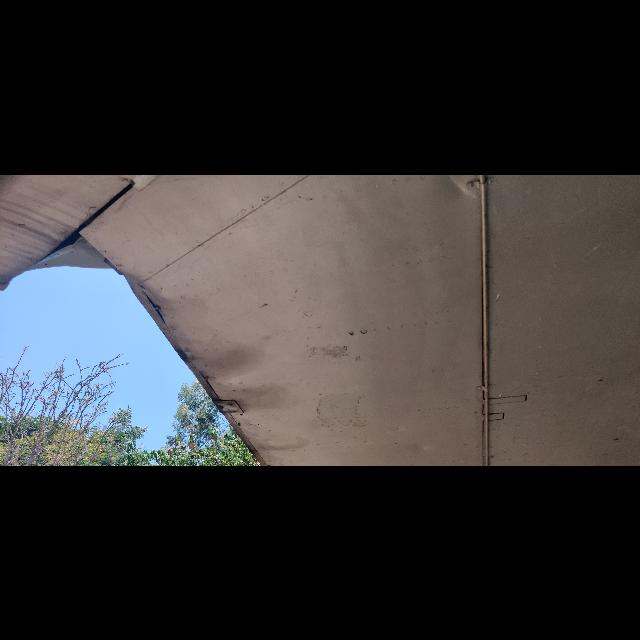dent: (446, 174, 480, 202), (404, 438, 432, 458)
